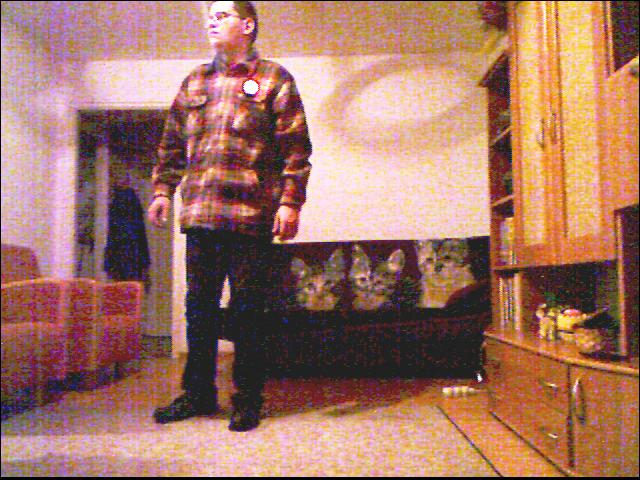standing: (144, 3, 320, 443)
